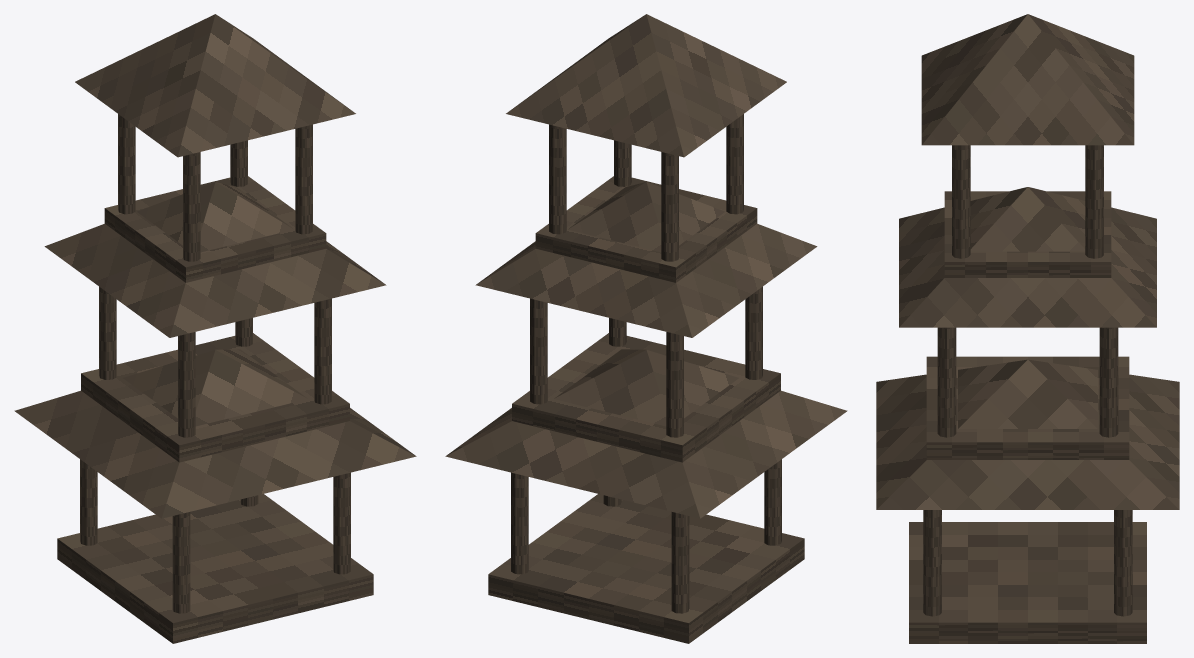
The model's file is pagoda_29.glb.
3 views of the same model, side by side, from view 1: azimuth 30°, elevation 25°; view 2: azimuth 150°, elevation 25°; view 3: azimuth 270°, elevation 25° (orthographic). The views are drawn at different scales.
Parts seen in each view (by area): view 1: Roof, Floor, Roof.001, Roof.002, Floor.001, Floor.002, Column.008, Column.010, Column, Column.004, Column.006, Column.002 (+4 smaller); view 2: Roof, Floor, Roof.001, Roof.002, Floor.001, Floor.002, Column.009, Column.011, Column.001, Column.005, Column.007, Column.003 (+4 smaller); view 3: Roof, Floor, Roof.001, Roof.002, Floor.001, Floor.002, Column.006, Column.007, Column.010, Column.011, Column.002, Column.003.
Part boxes in pixels (x1,y1,x2,y2): Roof: (14, 349, 416, 518); Floor: (57, 494, 373, 643); Roof.001: (44, 182, 386, 337); Roof.002: (75, 14, 355, 157); Floor.001: (81, 333, 349, 462); Floor.002: (104, 176, 326, 282); Column.008: (183, 152, 200, 261); Column.010: (295, 124, 312, 234); Column: (172, 512, 190, 613); Column.004: (178, 332, 195, 437); Column.006: (314, 298, 331, 404); Column.002: (333, 472, 350, 574); Roof: (445, 349, 847, 518); Floor: (488, 494, 804, 643); Roof.001: (475, 182, 817, 337); Roof.002: (506, 14, 786, 157); Floor.001: (512, 333, 780, 462); Floor.002: (535, 176, 757, 282); Column.009: (661, 152, 678, 261); Column.011: (549, 124, 566, 234); Column.001: (671, 512, 689, 613); Column.005: (666, 332, 683, 437); Column.007: (530, 298, 547, 404); Column.003: (511, 472, 528, 574); Roof: (876, 359, 1179, 509); Floor: (909, 522, 1146, 643); Roof.001: (899, 187, 1156, 327); Roof.002: (921, 14, 1134, 145); Floor.001: (926, 356, 1129, 459); Floor.002: (944, 191, 1111, 277); Column.006: (937, 327, 956, 437); Column.007: (1099, 327, 1118, 437); Column.010: (952, 145, 970, 258); Column.011: (1085, 145, 1103, 258); Column.002: (923, 510, 941, 616); Column.003: (1114, 510, 1132, 616).
Size of the model in its own units: 3.86 by 8.14 by 3.86.
1 material, 1 textured.
